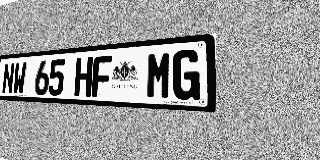5: (48, 59, 65, 96)
6: (34, 60, 50, 95)
F: (91, 55, 112, 97)
G: (172, 49, 201, 100)
H: (74, 57, 93, 97)
M: (146, 51, 172, 99)
N: (2, 63, 15, 94)
W: (13, 62, 27, 95)
